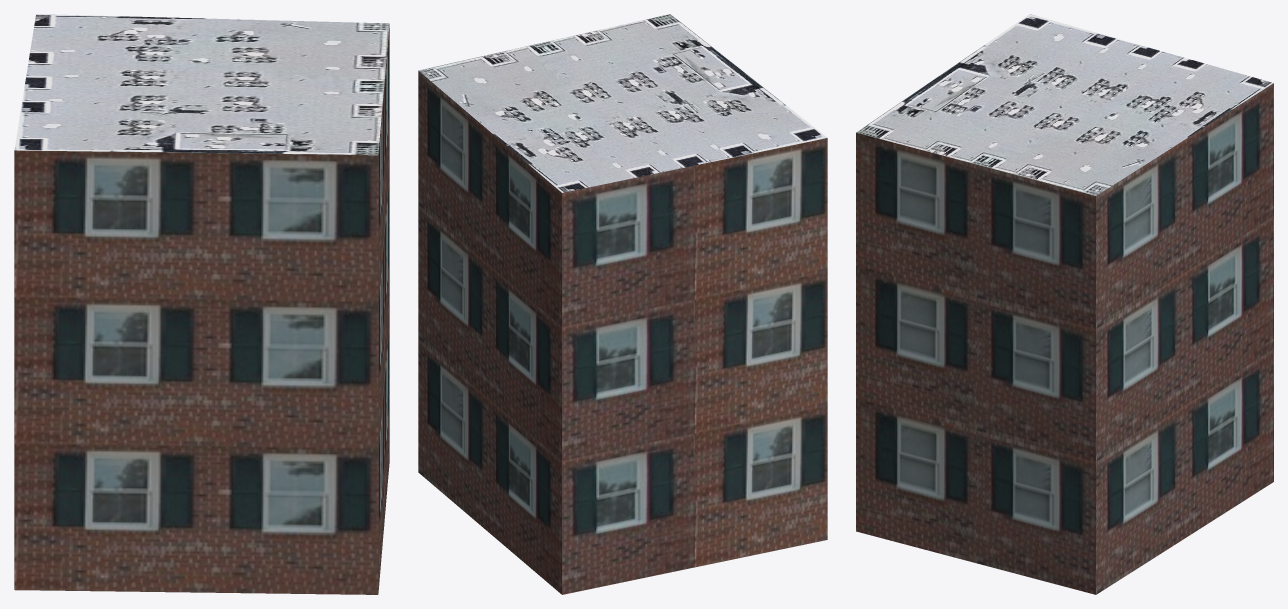
Rendered from ResTex__2044.fbx.
The picture shows the model from 3 angles, left to right: view 1: azimuth 30°, elevation 25°; view 2: azimuth 150°, elevation 25°; view 3: azimuth 270°, elevation 25°; orthographic projection. The views are drawn at different scales.
Parts seen in each view (by area): view 1: CityEngineMaterial_14_m, CityEngineMaterial_m; view 2: CityEngineMaterial_14_m, CityEngineMaterial_m; view 3: CityEngineMaterial_14_m, CityEngineMaterial_m.
Boxes of the visible parts, x1,y1,x2,y2 form: CityEngineMaterial_14_m: [14, 24, 389, 594]; CityEngineMaterial_m: [14, 14, 389, 155]; CityEngineMaterial_14_m: [418, 71, 827, 594]; CityEngineMaterial_m: [418, 14, 827, 192]; CityEngineMaterial_14_m: [856, 83, 1273, 594]; CityEngineMaterial_m: [856, 14, 1273, 195].
Bounding box in the file's own units: 8.81 × 9 × 8.55.
Materials: 2 (2 with a texture image).
